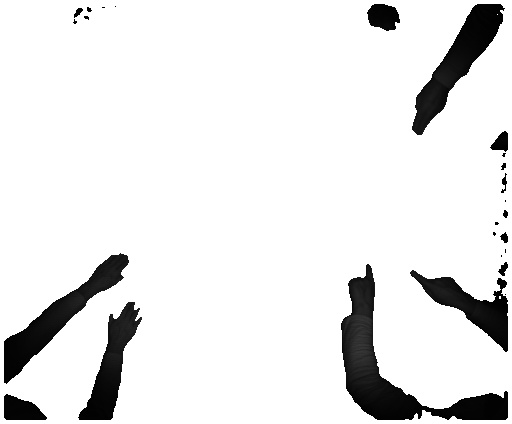hand: (408, 264, 468, 310), (85, 248, 135, 295), (408, 86, 448, 135), (336, 264, 375, 314), (107, 302, 143, 352)
